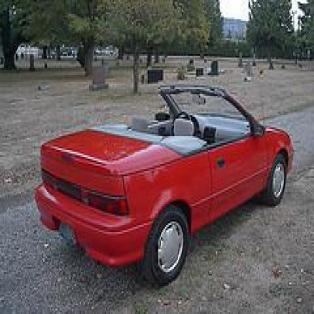Auto: (34, 85, 297, 281)
